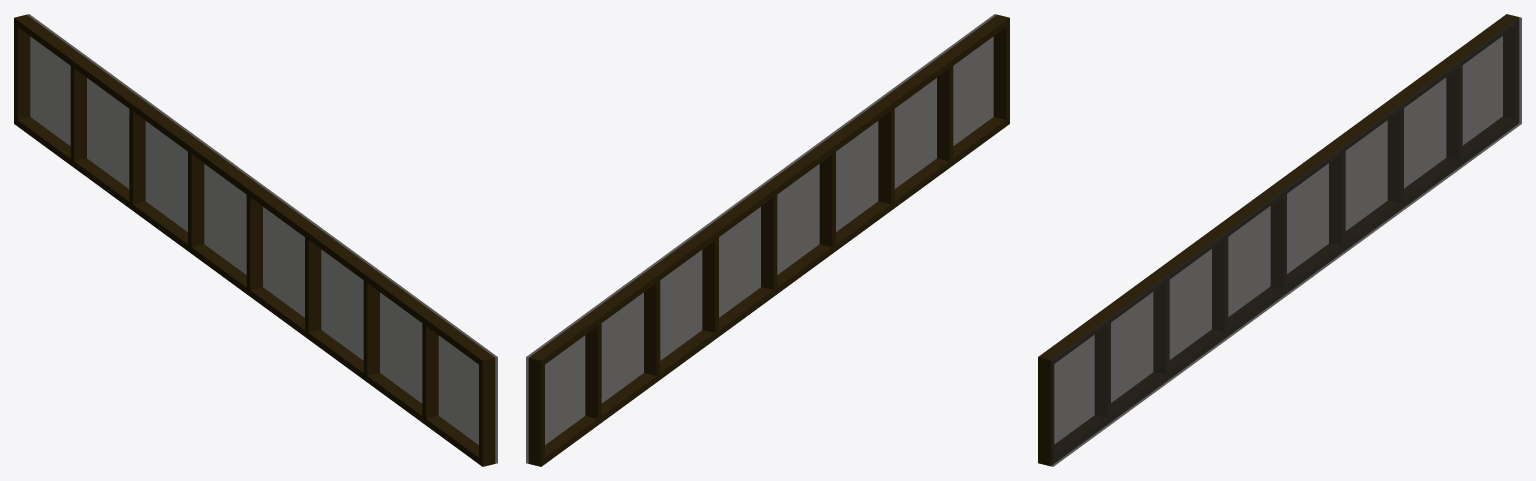
File: 8-SquareWindows(Final).fbx
3 views of the same model, side by side, from view 1: azimuth 30°, elevation 25°; view 2: azimuth 150°, elevation 25°; view 3: azimuth 330°, elevation 25° (orthographic).
Parts seen in each view (by area): view 1: 8SCC frame; view 2: 8SCC frame; view 3: 8SCC frame.
Part boxes in pixels (bbox=[...]): 8SCC frame: bbox=[14, 14, 497, 466]; 8SCC frame: bbox=[526, 14, 1009, 466]; 8SCC frame: bbox=[1038, 14, 1521, 466].
Bounding box in the file's own units: 121 × 800 × 6400.
